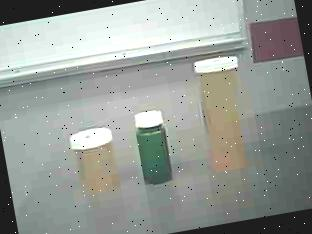Bottle A: (189, 52, 259, 180)
Bottle B: (66, 120, 126, 196)
Bottle C: (129, 102, 181, 190)
